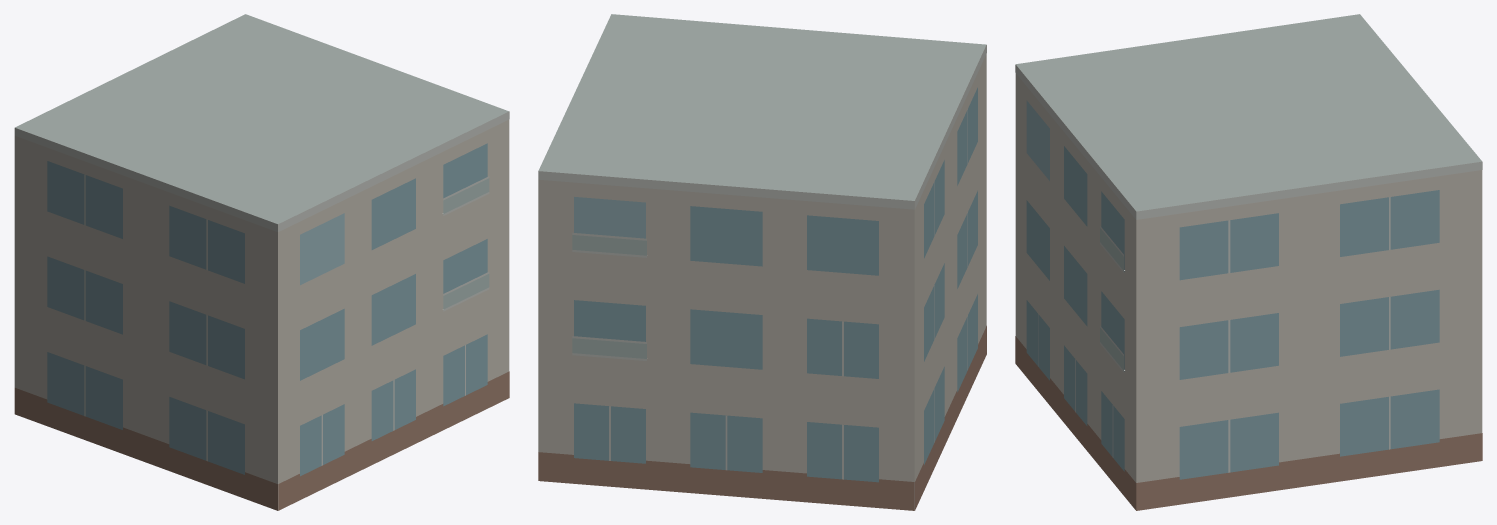
File: survey-upis-32613976.glb
3 views of the same model, side by side, from view 1: azimuth 30°, elevation 25°; view 2: azimuth 150°, elevation 25°; view 3: azimuth 270°, elevation 25° (orthographic). The views are drawn at different scales.
Parts seen in each view (by area): view 1: survey-upis-32613976.tmp; view 2: survey-upis-32613976.tmp; view 3: survey-upis-32613976.tmp.
Part boxes in pixels (<box>): survey-upis-32613976.tmp: <box>14,14,509,510</box>; survey-upis-32613976.tmp: <box>538,14,986,510</box>; survey-upis-32613976.tmp: <box>1015,14,1482,510</box>.
Size of the model in its own units: 12.4 by 8.75 by 12.39.
